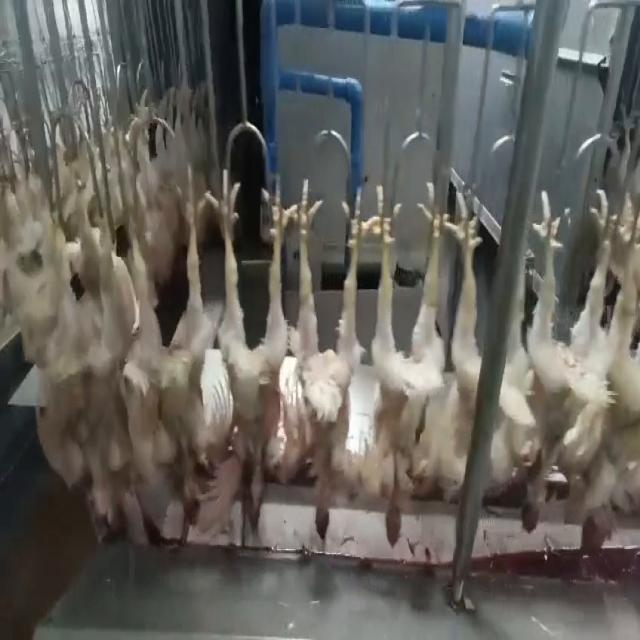chicken: (360, 180, 447, 548), (276, 177, 361, 546), (502, 186, 576, 537), (78, 186, 149, 545), (573, 172, 637, 558), (142, 177, 209, 542), (208, 175, 278, 523), (424, 181, 486, 503)
